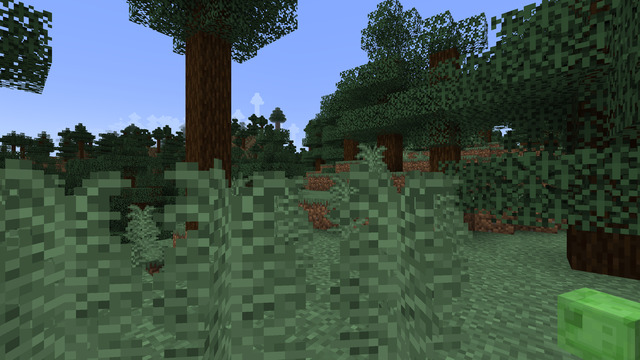slimes: (565, 283, 637, 358)
